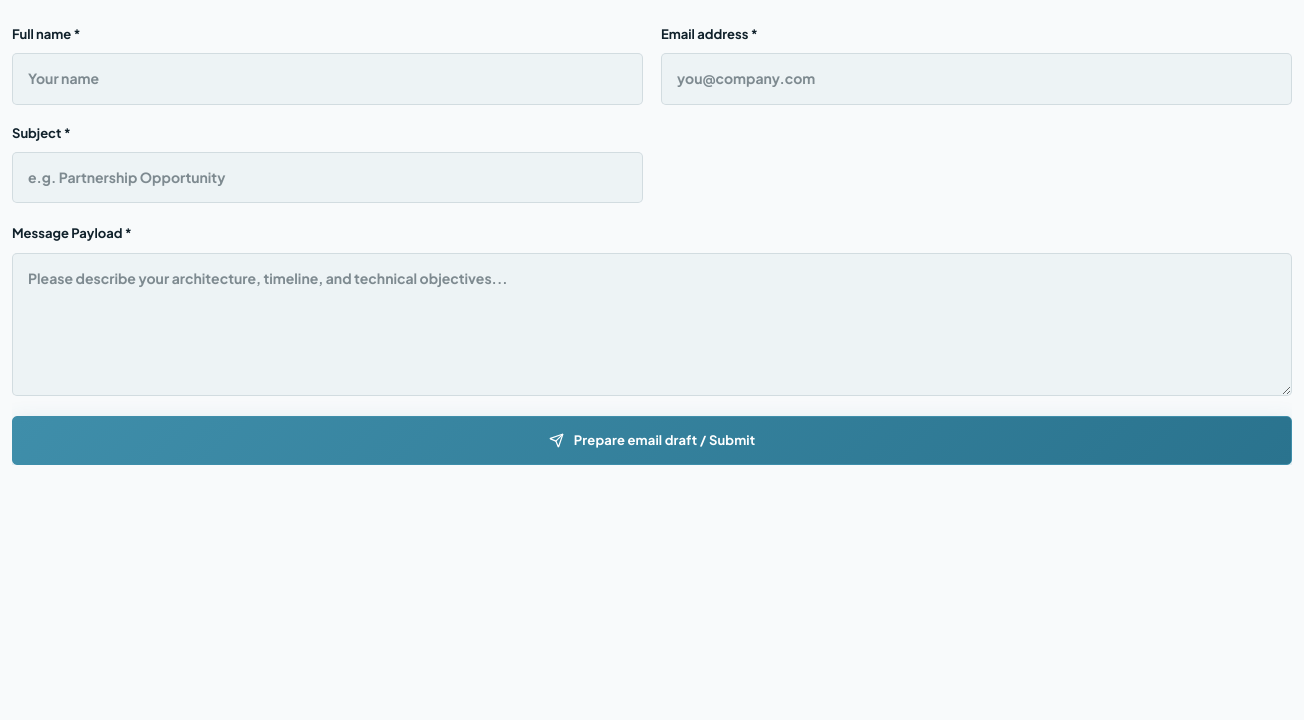
Test: Enquiry & Contact Form Validation › displays validation errors when submitting empty form
Step 1. Click the button "Prepare email draft / Submit" → (652, 441), box [12, 416, 1292, 465]
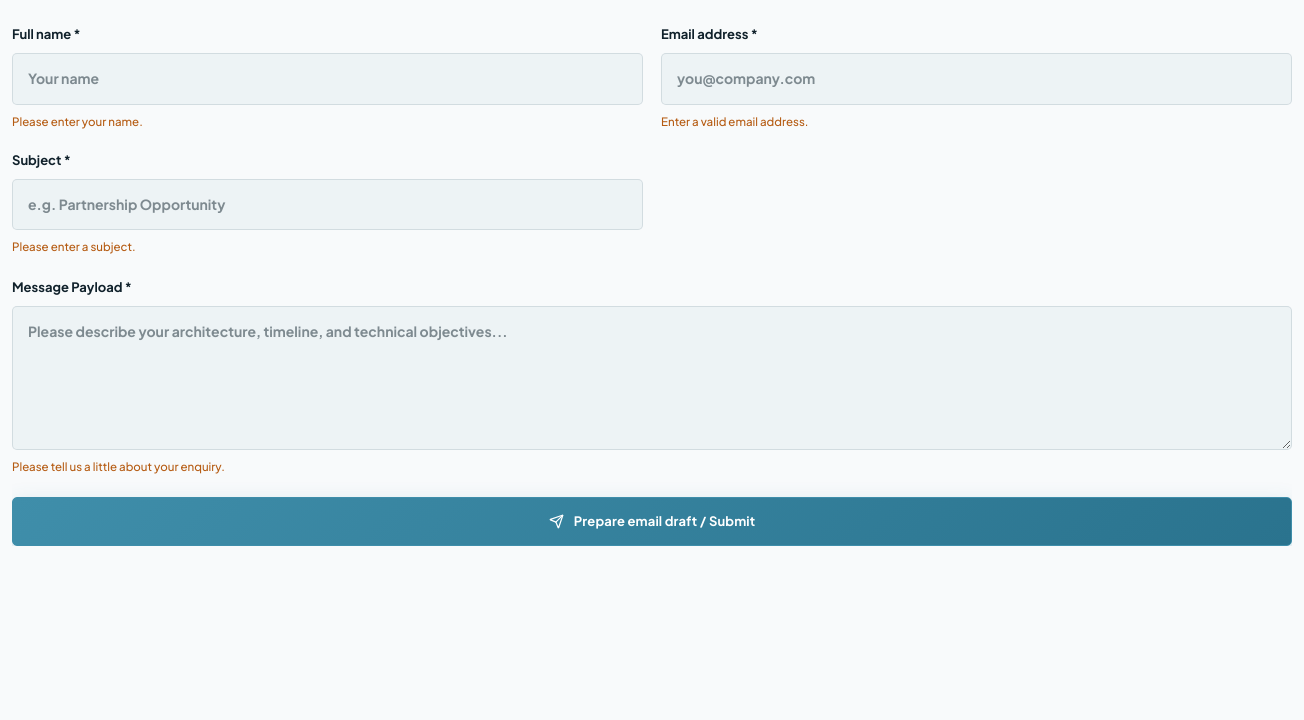
Result: the text "Please enter your name." is shown at [12, 114, 143, 128]
Result: the text "Enter a valid email address." is shown at [661, 114, 808, 128]
Result: the text "Please enter a subject." is shown at [12, 239, 136, 254]
